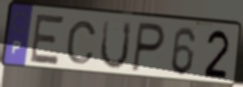2: (202, 29, 231, 81)
6: (169, 25, 197, 79)
C: (65, 20, 99, 66)
E: (28, 13, 66, 67)
P: (130, 20, 167, 75)
U: (98, 19, 134, 72)
